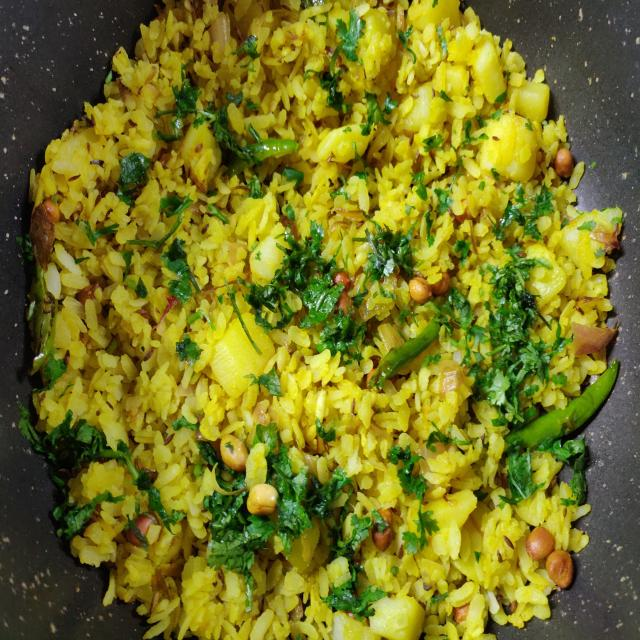POHA: (28, 0, 623, 639)
